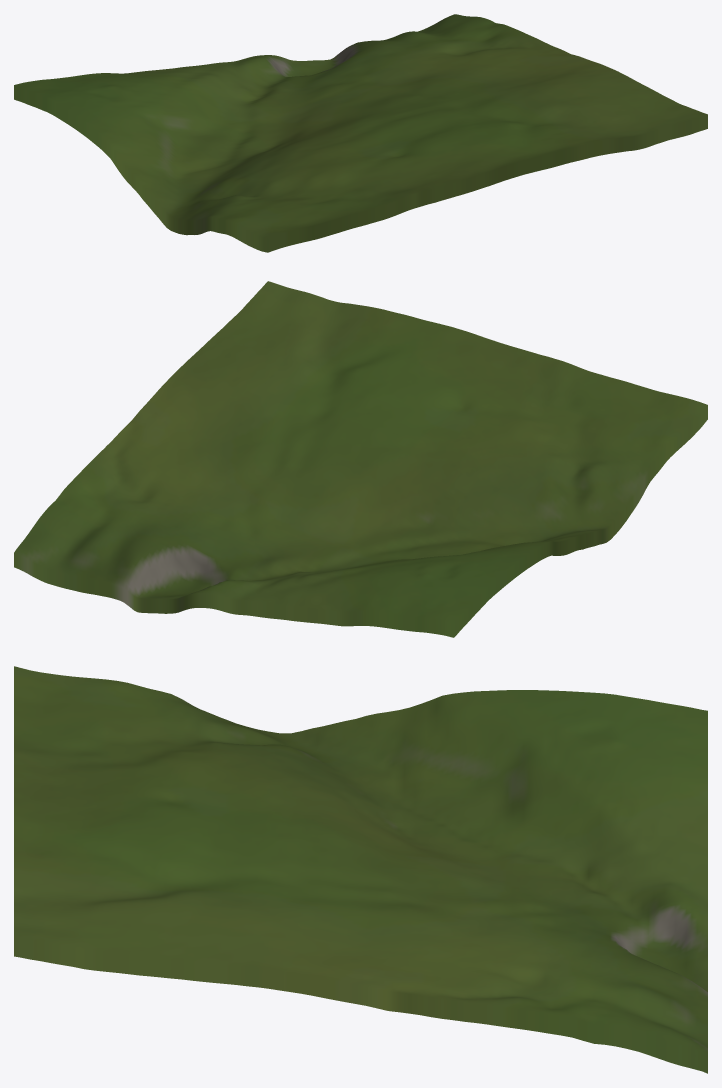
Rendered from terrain_10_-10.glb.
3 views of the same model, one above another, from view 1: azimuth 30°, elevation 25°; view 2: azimuth 150°, elevation 25°; view 3: azimuth 270°, elevation 25° (orthographic). The views are drawn at different scales.
Visible parts, largest first — view 1: terrain_10_-10; view 2: terrain_10_-10; view 3: terrain_10_-10.
Part boxes in pixels (x1,y1,x2,y2): terrain_10_-10: (14, 14, 707, 252); terrain_10_-10: (14, 281, 707, 637); terrain_10_-10: (14, 666, 707, 1073).
Bounding box in the file's own units: 256 × 64.05 × 256.
